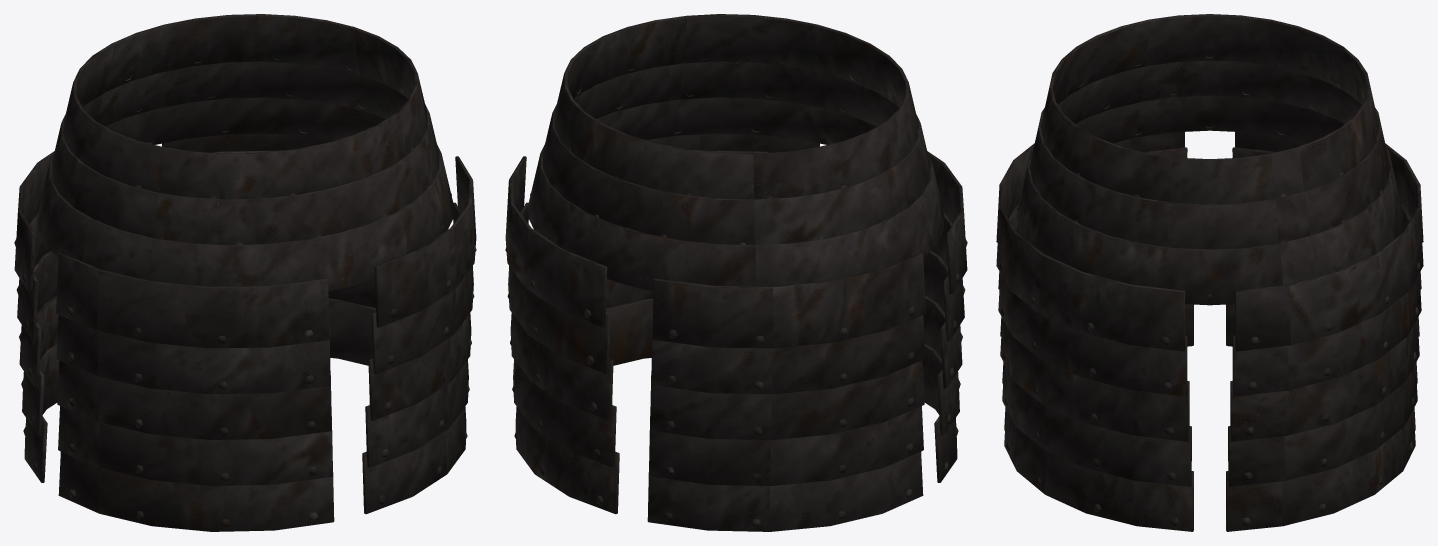
File: fauld-proc-v1.glb
3 renders of one model, left to right at view 1: azimuth 30°, elevation 25°; view 2: azimuth 150°, elevation 25°; view 3: azimuth 270°, elevation 25°, orthographic.
Visible parts, largest first — view 1: fauld; view 2: fauld; view 3: fauld.
Boxes of the visible parts, x1,y1,x2,y2 form: fauld: [14, 14, 476, 531]; fauld: [505, 14, 967, 531]; fauld: [996, 14, 1423, 531].
Size of the model in its own units: 0.4992 by 0.4207 by 0.4629.
1 material, 1 textured.
